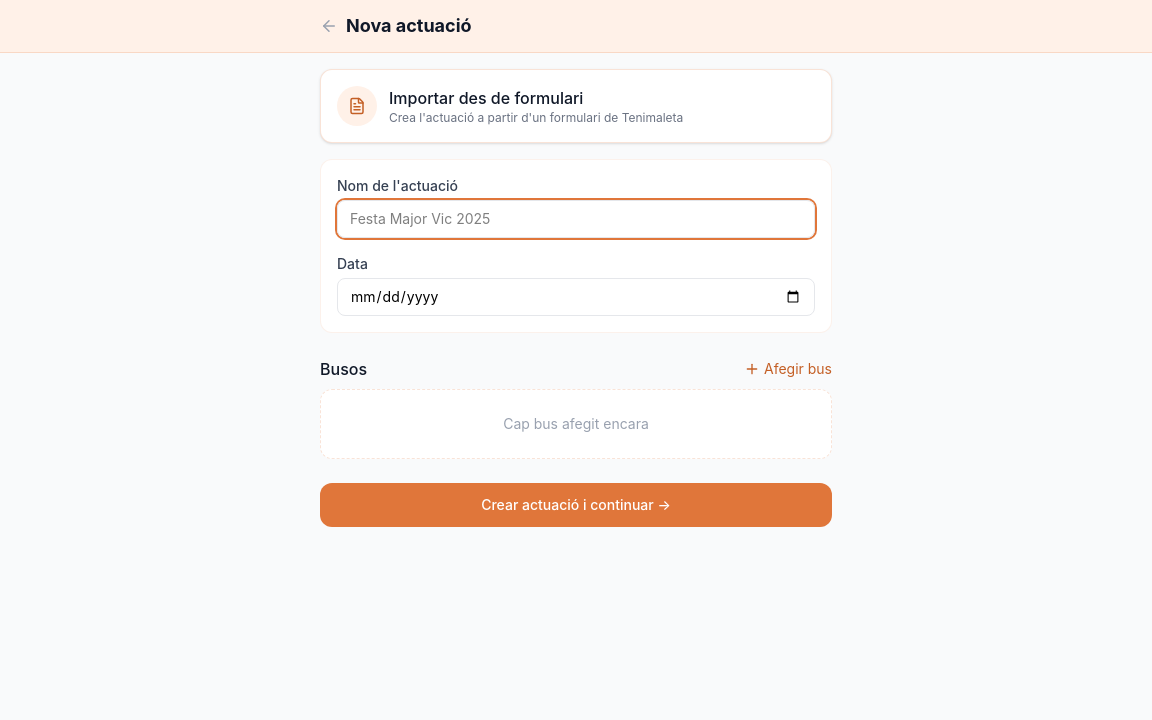
Scenario: NewEvent › eliminar bus treu el bus de la llista
Click the button "Afegir bus".
click(788, 369)  # box [744,359,832,379]
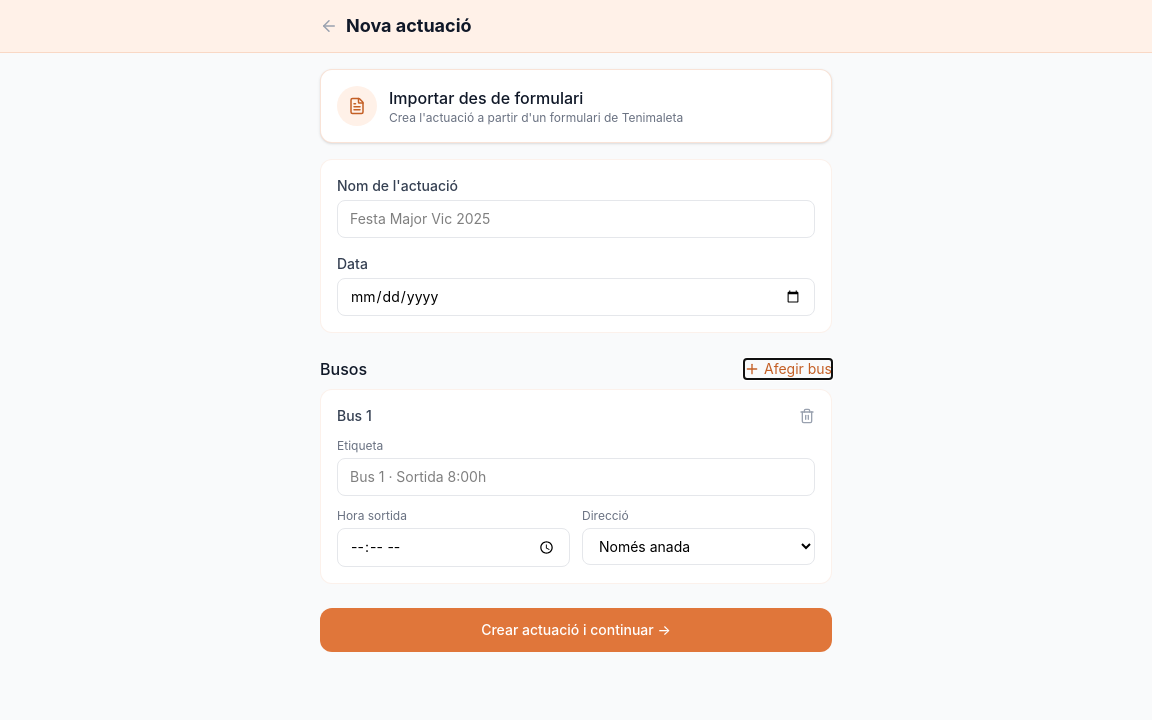
Now the text "Bus 1" is shown, box [337,406,372,426]
Click the button with test id "remove-bus-0".
click(807, 416)  # box [799,408,815,424]
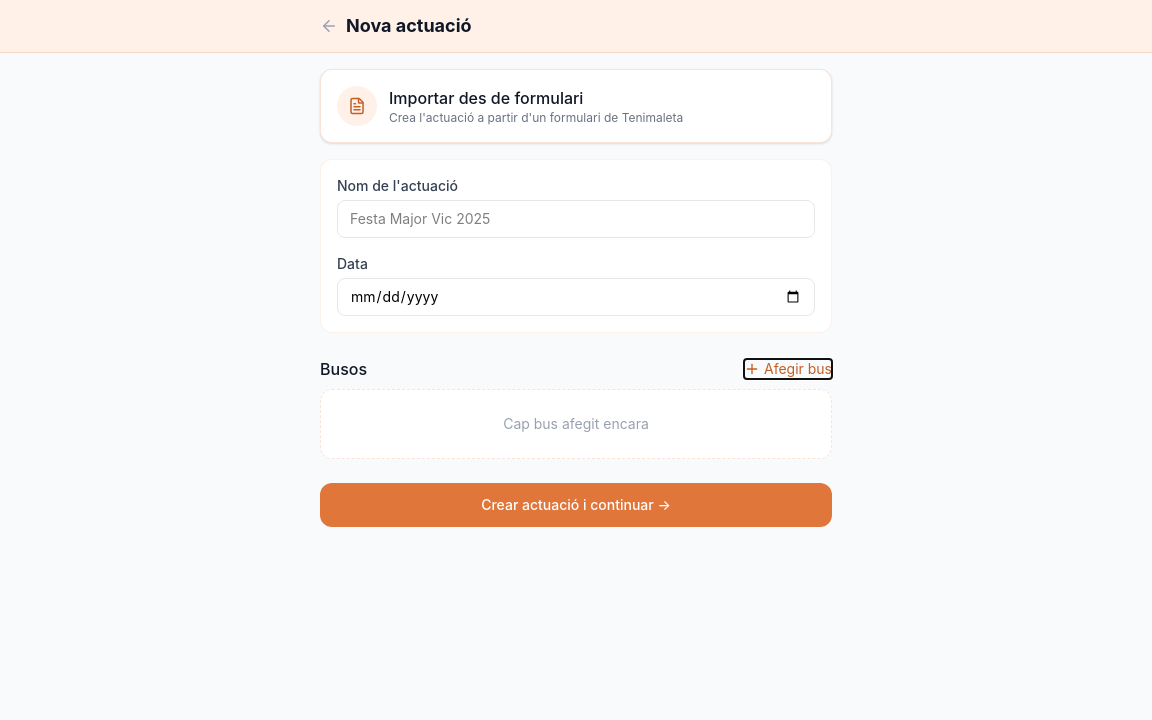
Now the text "Bus 1" is gone
